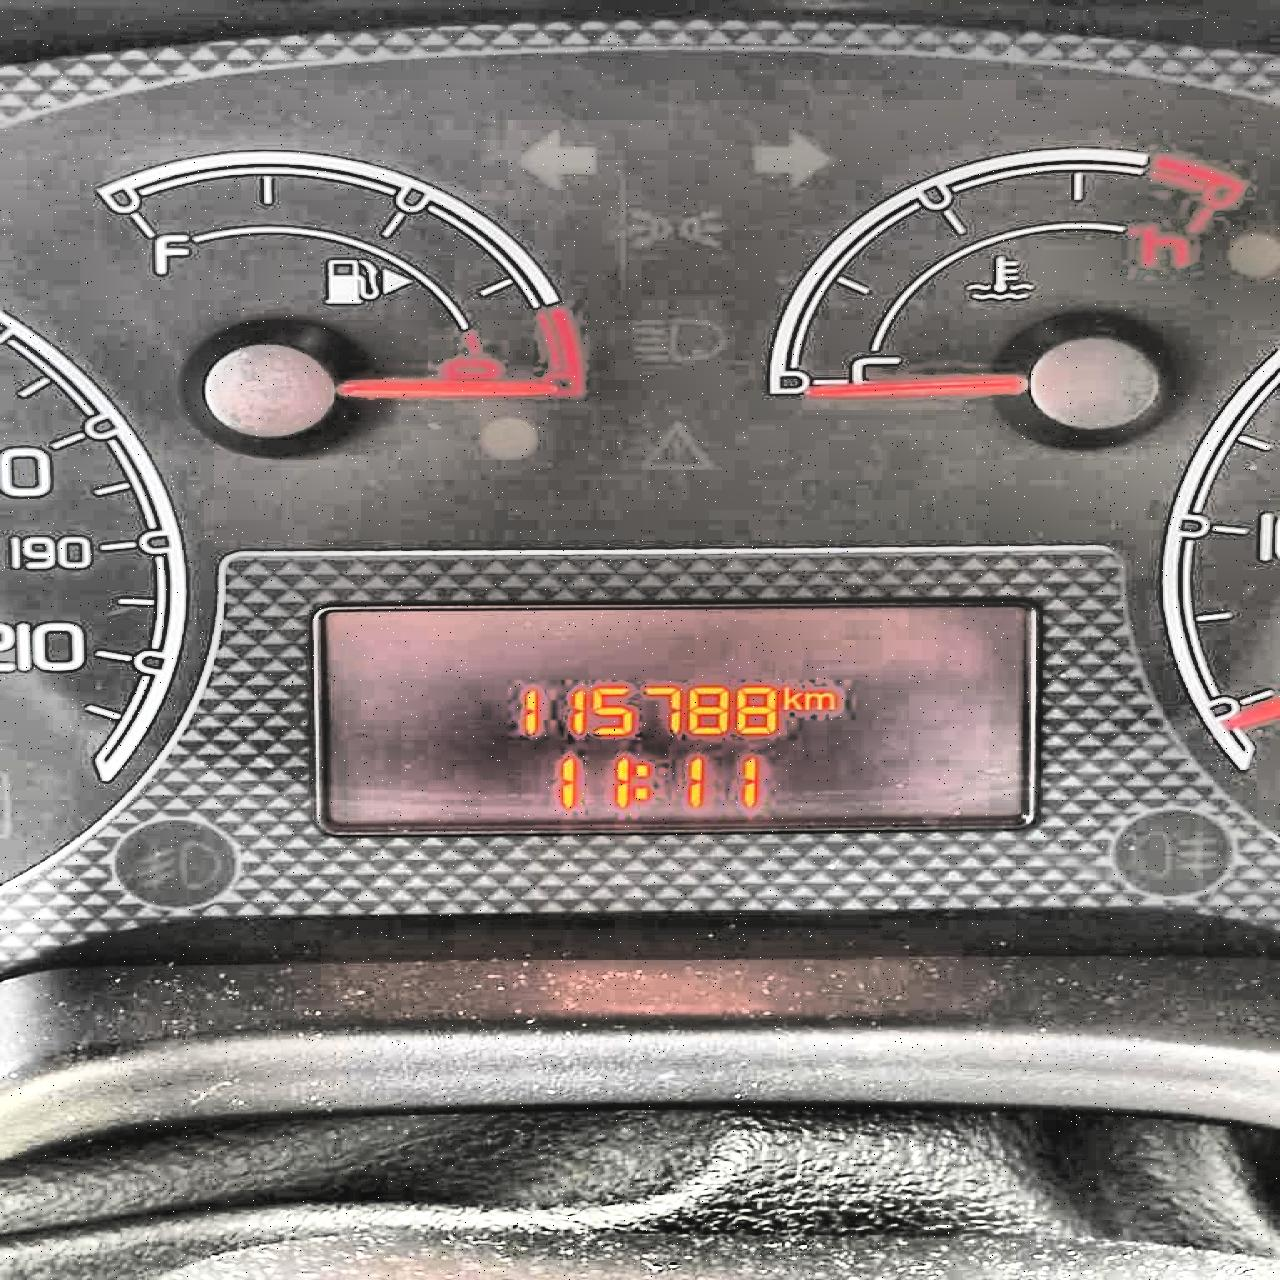1: (738, 755, 757, 806), (558, 755, 574, 809), (612, 755, 628, 808), (686, 755, 702, 808), (568, 688, 585, 734), (522, 687, 537, 735)
5: (588, 686, 633, 735)
7: (640, 686, 680, 733)
8: (686, 685, 729, 734), (734, 685, 776, 734)
X: (802, 692, 836, 710), (632, 764, 648, 799), (781, 685, 802, 710)
odometer: (313, 597, 1037, 832)
